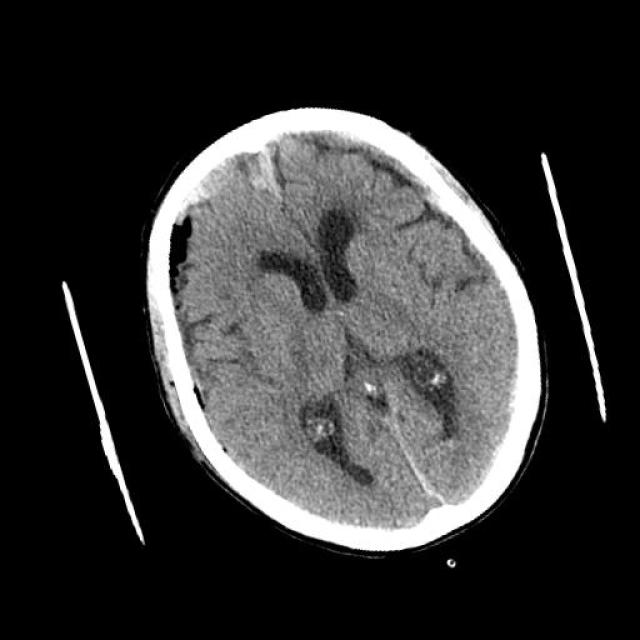Subdural: (274, 88, 468, 254), (152, 120, 290, 236), (380, 387, 486, 531)
